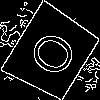O: (26, 27, 88, 85)
